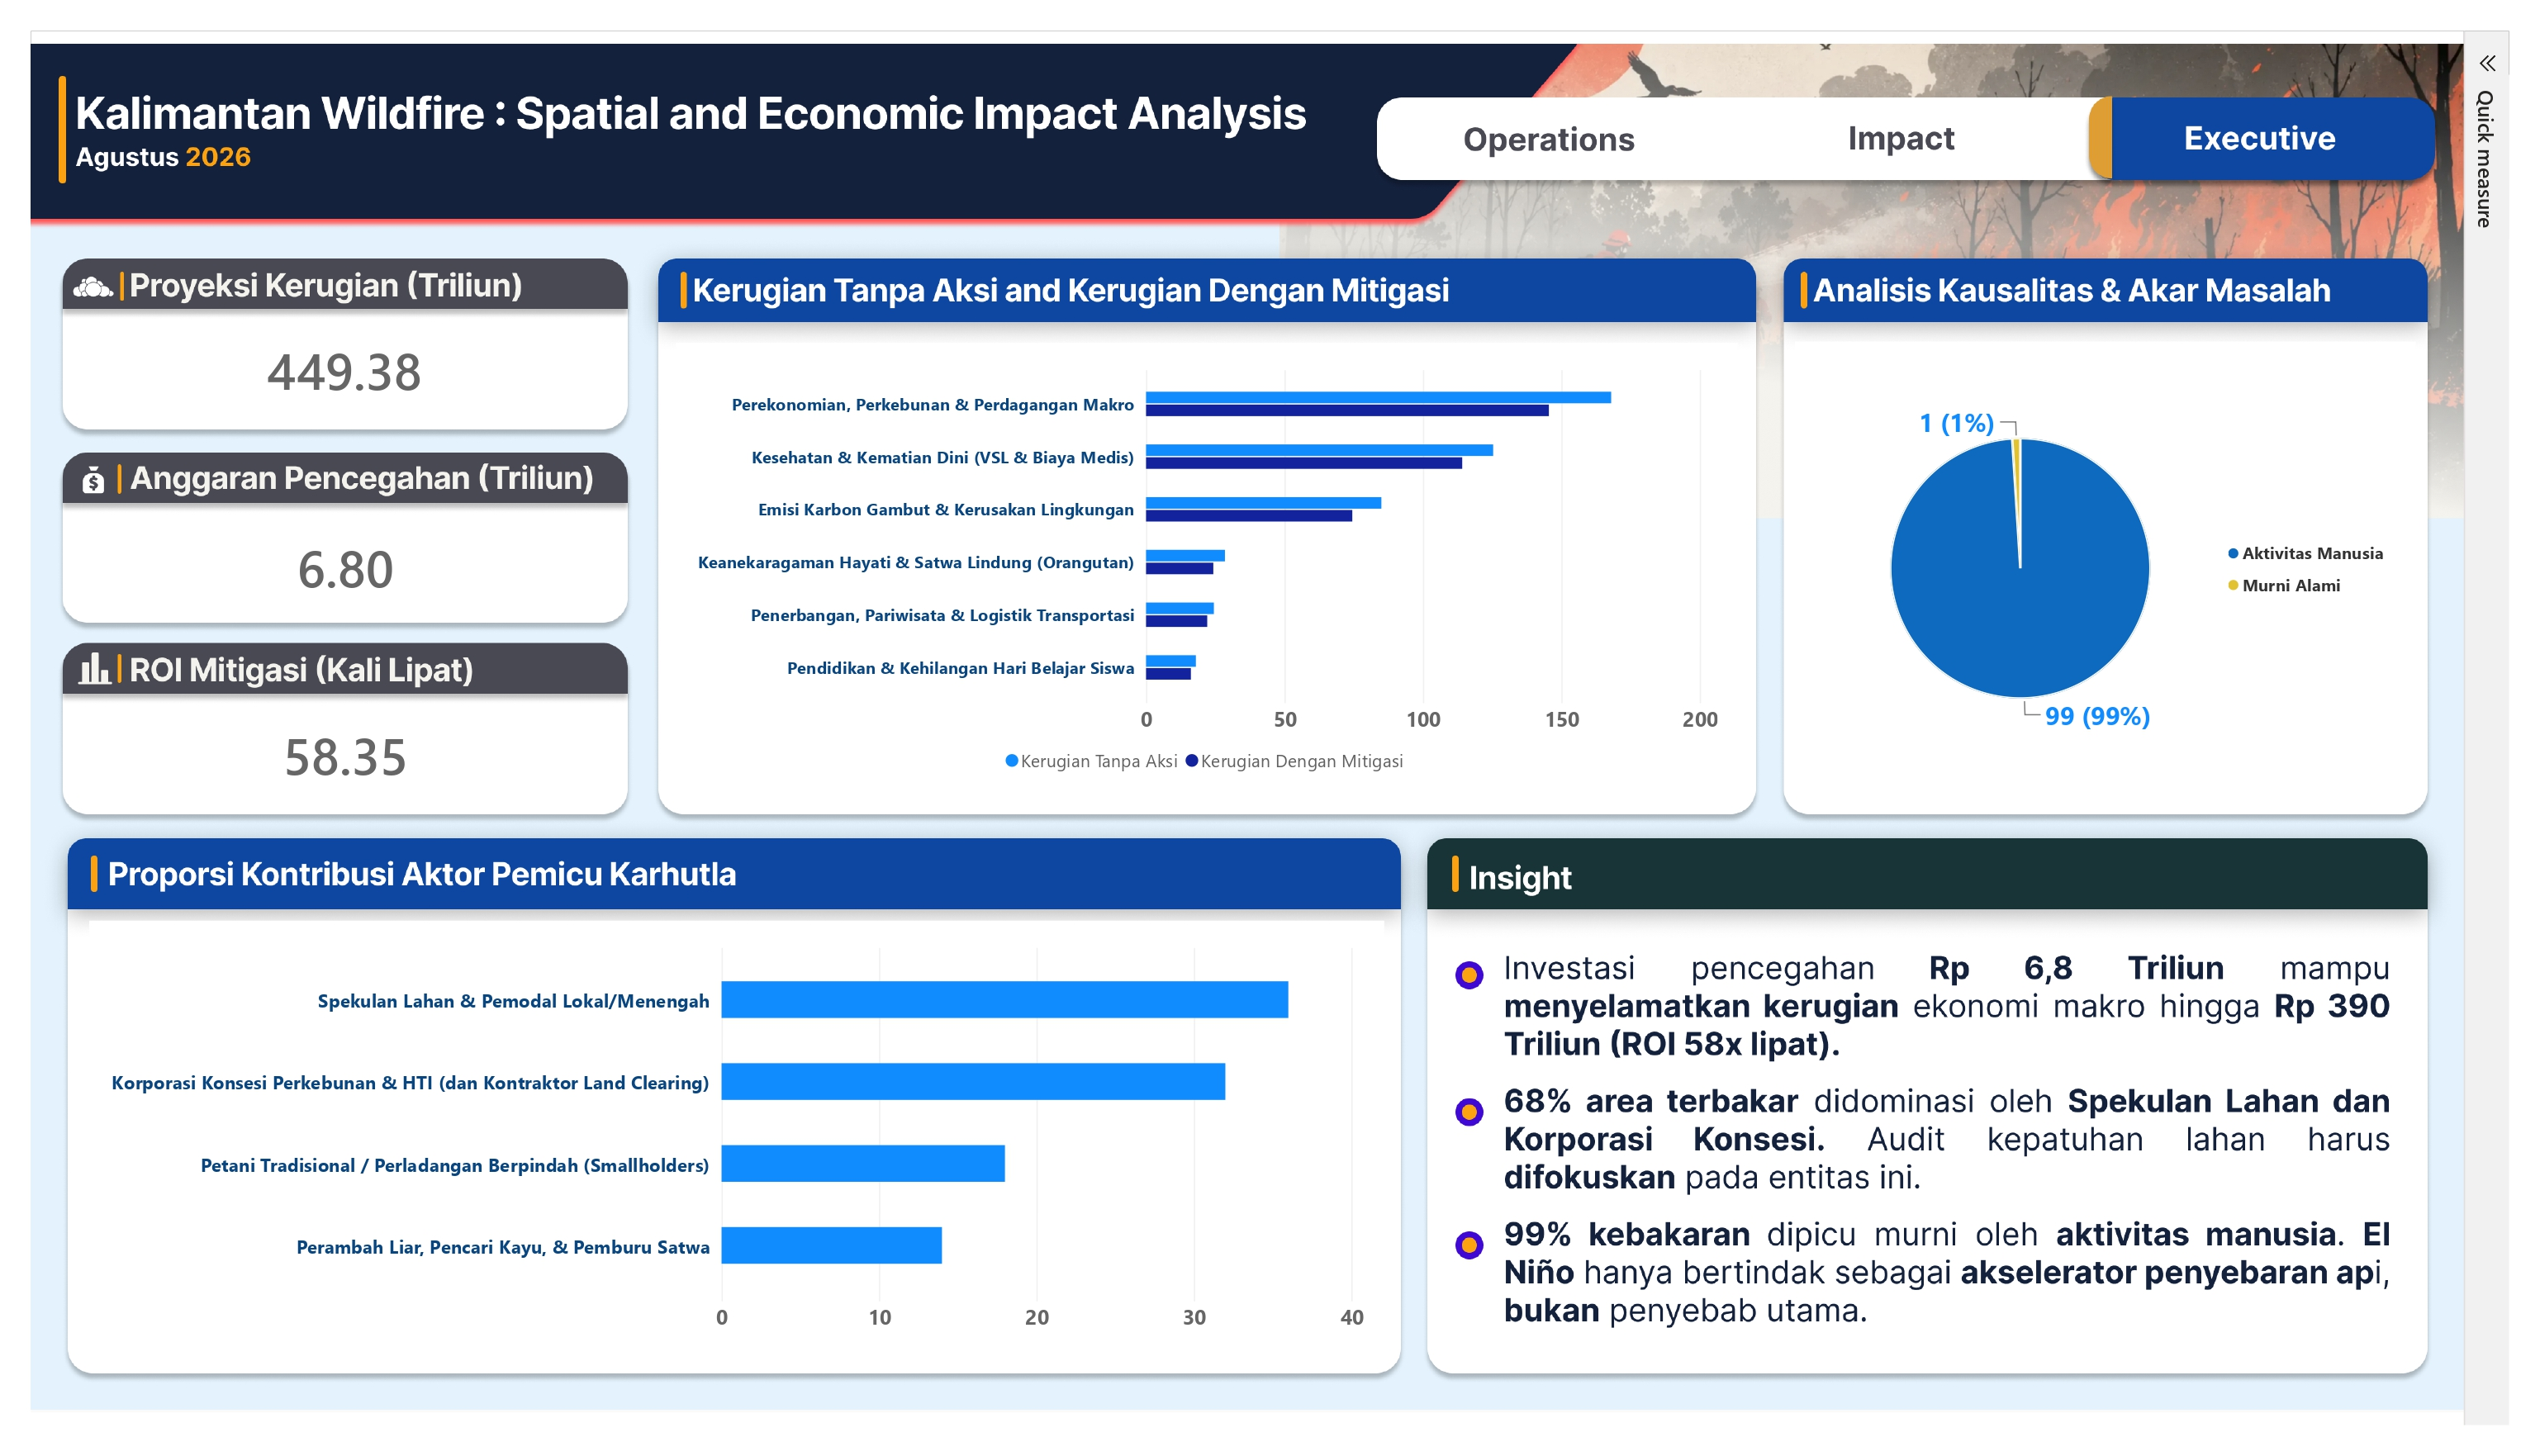

Layout of this report page (visuals, bound fields, positions):
{"tool":"powerbi","page":{"name":"Page 3","canvas":[1920,1080],"ordinal":2},"visuals":[{"type":"cardVisual","title":"Anggaran Pencegahan (Triliun Rp)","fields":{"Data":["Sum(kalimantan_cost_benefit_mitigation.value_trillion_idr)"]},"box":[38.2,371.8,420.9,80],"z":0},{"type":"cardVisual","title":"Proyeksi Kerugian (Triliun Rp)","fields":{"Data":["Sum(kalimantan_damage_prediction_scenarios.unmitigated_loss_trillion_idr)"]},"box":[30,218.2,435.5,75.5],"z":1000},{"type":"cardVisual","title":"ROI Mitigasi (Kali Lipat)","fields":{"Data":["Sum(kalimantan_cost_benefit_mitigation.value_trillion_idr)"]},"box":[38.2,526.4,420.9,69.1],"z":2000},{"type":"clusteredBarChart","fields":{"Category":["kalimantan_damage_prediction_scenarios.sector"],"Y":["Sum(kalimantan_damage_prediction_scenarios.unmitigated_loss_trillion_idr)","Sum(kalimantan_damage_prediction_scenarios.avoided_loss_trillion_idr)"]},"box":[508.6,235.7,838.6,360],"z":3000},{"type":"clusteredBarChart","title":"Proporsi Kontribusi Aktor Pemicu Karhutla","fields":{"Category":["kalimantan_fire_actors_breakdown.actor_group"],"Y":["Sum(kalimantan_fire_actors_breakdown.share_pct)"]},"box":[46,692,1022,346],"z":4000},{"type":"pieChart","title":"Analisis Kausalitas & Akar Masalah","fields":{"Category":["kalimantan_fire_causality_stats.cause_category"],"Series":["kalimantan_fire_causality_stats.ignition_source"],"Y":["Sum(kalimantan_fire_causality_stats.percentage_share)"]},"box":[1391.7,235,490,360],"z":5000}]}

Visuals, with their boxes on the page's 1920x1080 design canvas (x1, y1, x2, y2). These are canvas units, not pixel positions in the 2540x1456 screenshot, which may show the page scaled, cropped or inside an application window:
"Anggaran Pencegahan (Triliun Rp)" cardVisual: x1=38 y1=372 x2=459 y2=452
"Proyeksi Kerugian (Triliun Rp)" cardVisual: x1=30 y1=218 x2=466 y2=294
"ROI Mitigasi (Kali Lipat)" cardVisual: x1=38 y1=526 x2=459 y2=596
clusteredBarChart - kalimantan_damage_prediction_scenarios.sector x Sum(kalimantan_damage_prediction_scenarios.unmitigated_loss_trillion_idr): x1=509 y1=236 x2=1347 y2=596
"Proporsi Kontribusi Aktor Pemicu Karhutla" clusteredBarChart: x1=46 y1=692 x2=1068 y2=1038
"Analisis Kausalitas & Akar Masalah" pieChart: x1=1392 y1=235 x2=1882 y2=595
